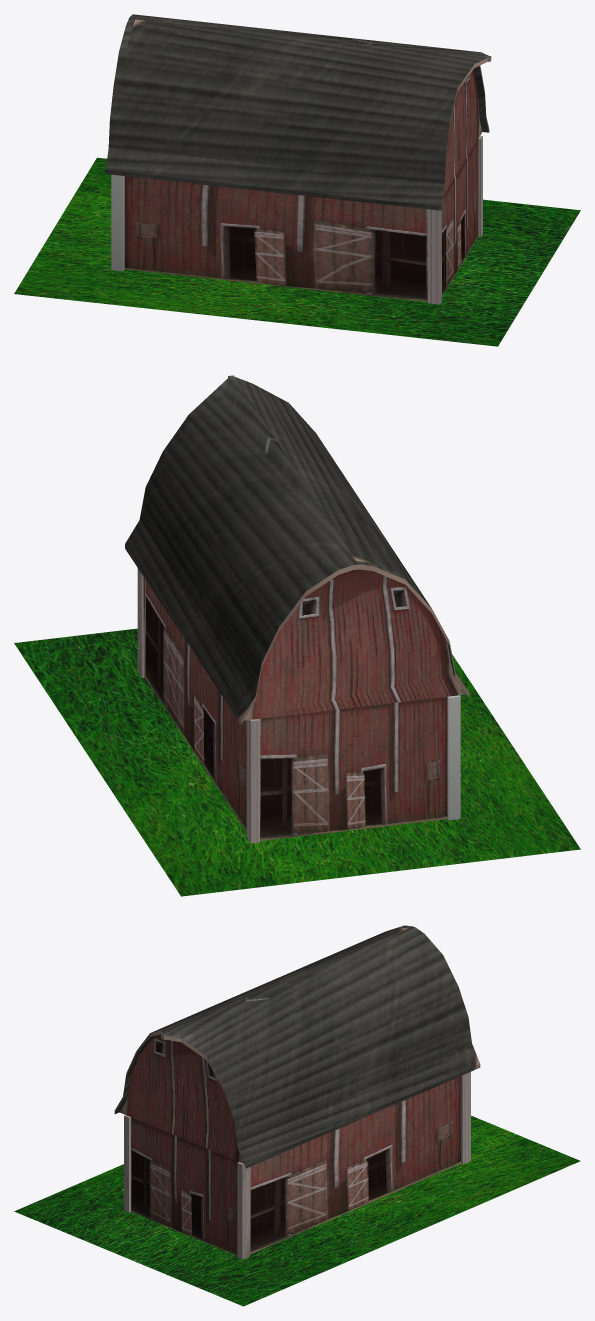
3 renders of one model, top to bottom at view 1: azimuth 30°, elevation 25°; view 2: azimuth 150°, elevation 25°; view 3: azimuth 270°, elevation 25°, orthographic. The views are drawn at different scales.
Parts seen in each view (by area): view 1: Farm, Grass; view 2: Farm, Grass; view 3: Farm, Grass.
Part boxes in pixels (box(x1,y1,x2,y2)): Farm: box(105, 14, 491, 304); Grass: box(14, 157, 580, 346); Farm: box(125, 375, 469, 843); Grass: box(14, 628, 580, 896); Farm: box(114, 925, 480, 1259); Grass: box(14, 1115, 580, 1306).
Bounding box in the file's own units: 2125 × 859 × 2117.
2 materials, 2 textured.
